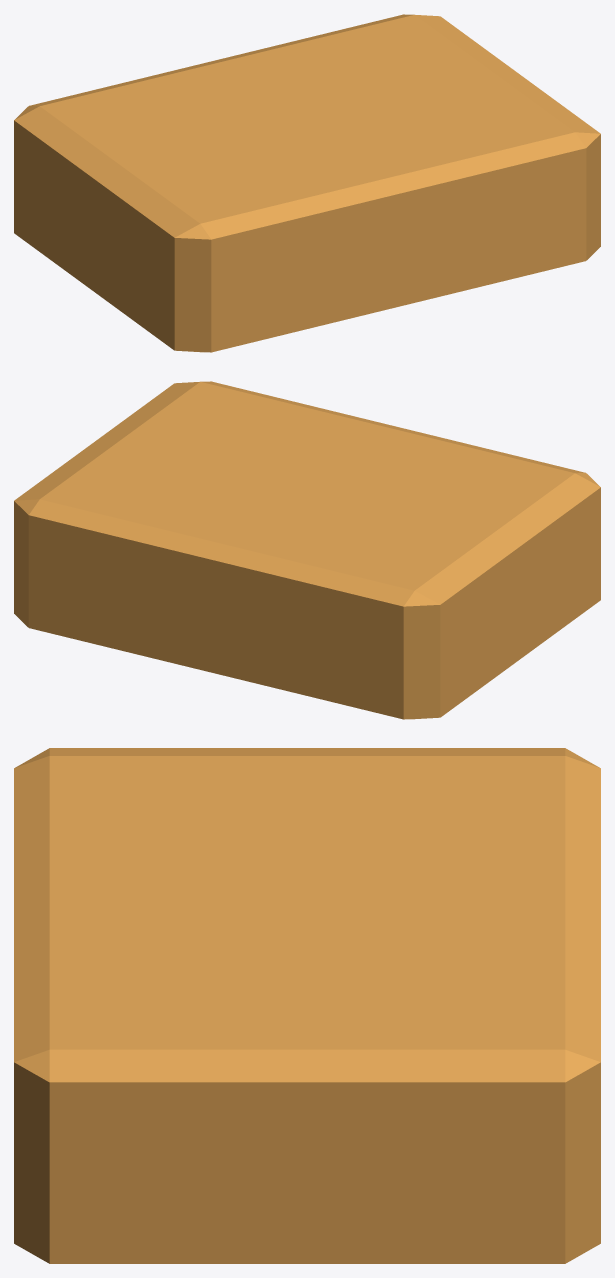
The model's file is smallSquare.glb.
3 renders of one model, top to bottom at view 1: azimuth 30°, elevation 25°; view 2: azimuth 150°, elevation 25°; view 3: azimuth 270°, elevation 25°, orthographic. The views are drawn at different scales.
Parts seen in each view (by area): view 1: Cube; view 2: Cube; view 3: Cube.
Part boxes in pixels (x1=…): Cube: x1=14, y1=14, x2=600, y2=352; Cube: x1=14, y1=381, x2=600, y2=719; Cube: x1=14, y1=748, x2=600, y2=1263.
Bounding box in the file's own units: 0.7616 × 0.2192 × 0.565.
